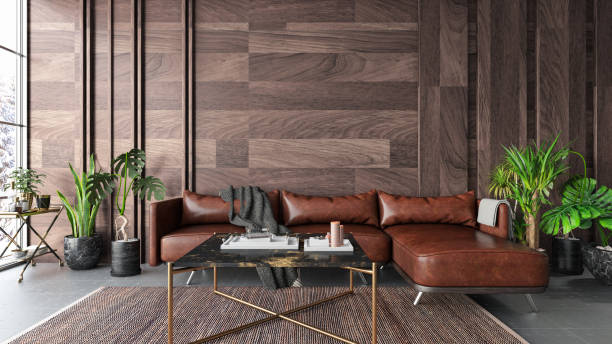large plant: (550, 172, 612, 282), (493, 139, 556, 245), (110, 140, 154, 279), (57, 158, 110, 270)
sofa: (147, 189, 551, 313)
table: (164, 230, 380, 344), (0, 204, 64, 284)
